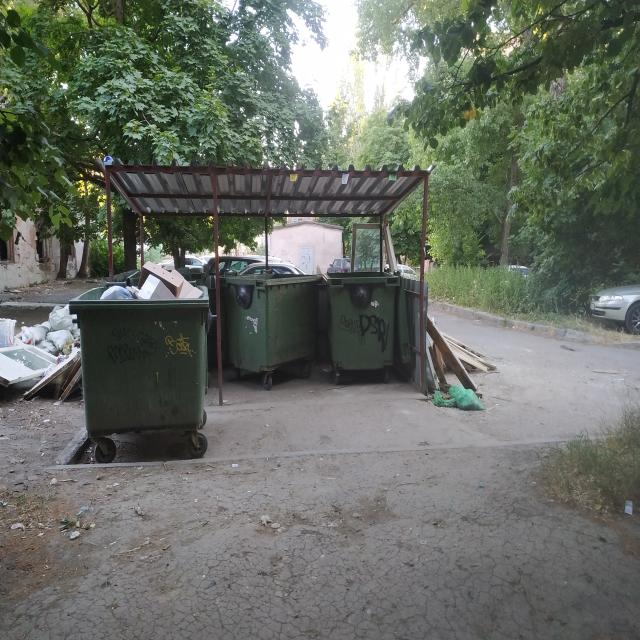bin: (76, 298, 212, 449), (219, 270, 323, 386), (322, 275, 410, 379)
trash: (0, 296, 78, 411), (423, 312, 504, 418), (97, 260, 204, 302), (348, 222, 395, 275)
